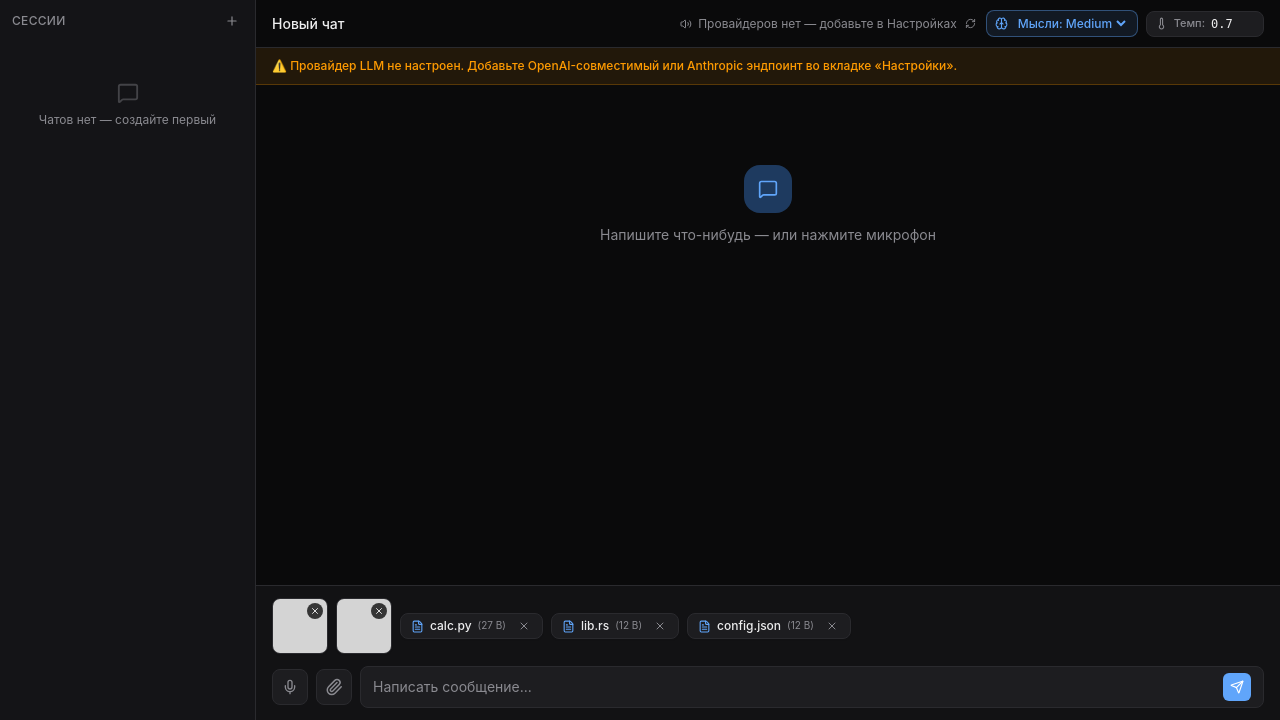
Test: File & Image Attachments Protocol Stress Tests › handles dropping multiple mixed files (images + code + text), renders previews, and removes specific items
Earlier steps of the test are not shown.
Check: the element with test id "attachments-preview" is shown, box [272,598,851,654]
Check: the text "calc.py" is shown, box [430,618,472,634]
Click the button named "Удалить diagram.png": click(315, 611) [307,603,323,619]
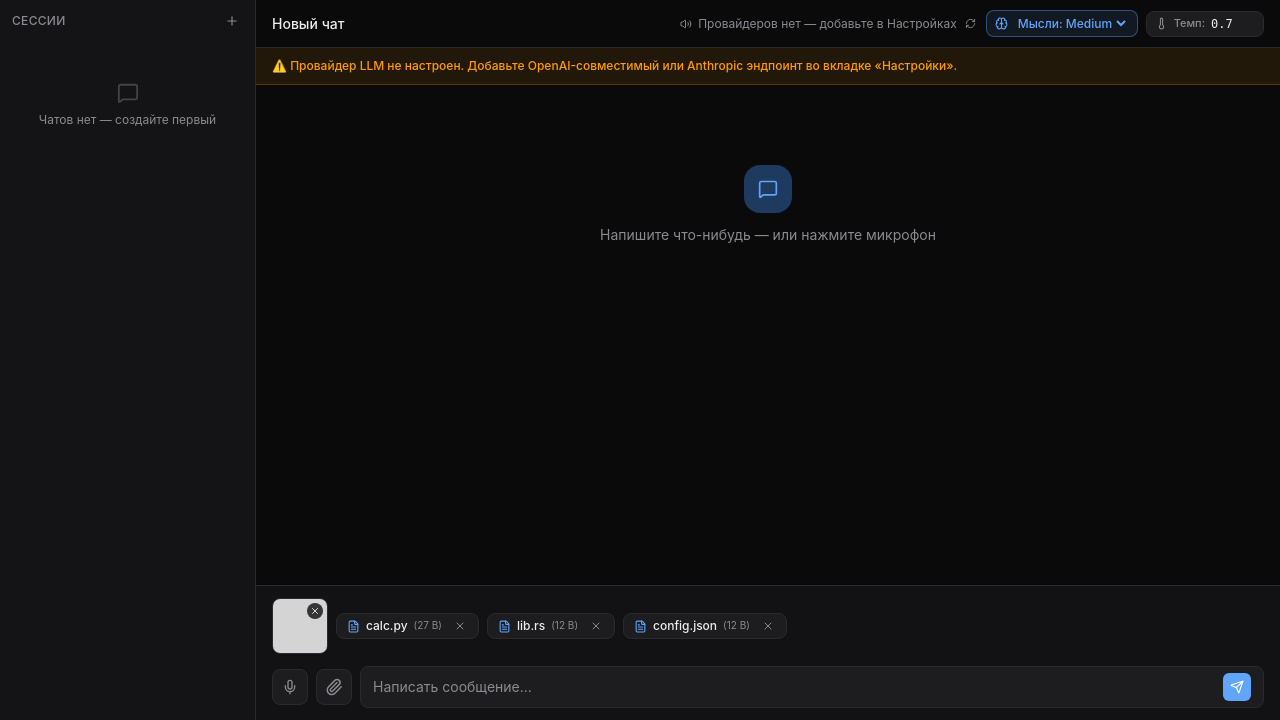
Check: the text "calc.py" is shown, box [366,618,408,634]
Click the button named "Удалить lib.rs": click(596, 626) [588,618,604,634]
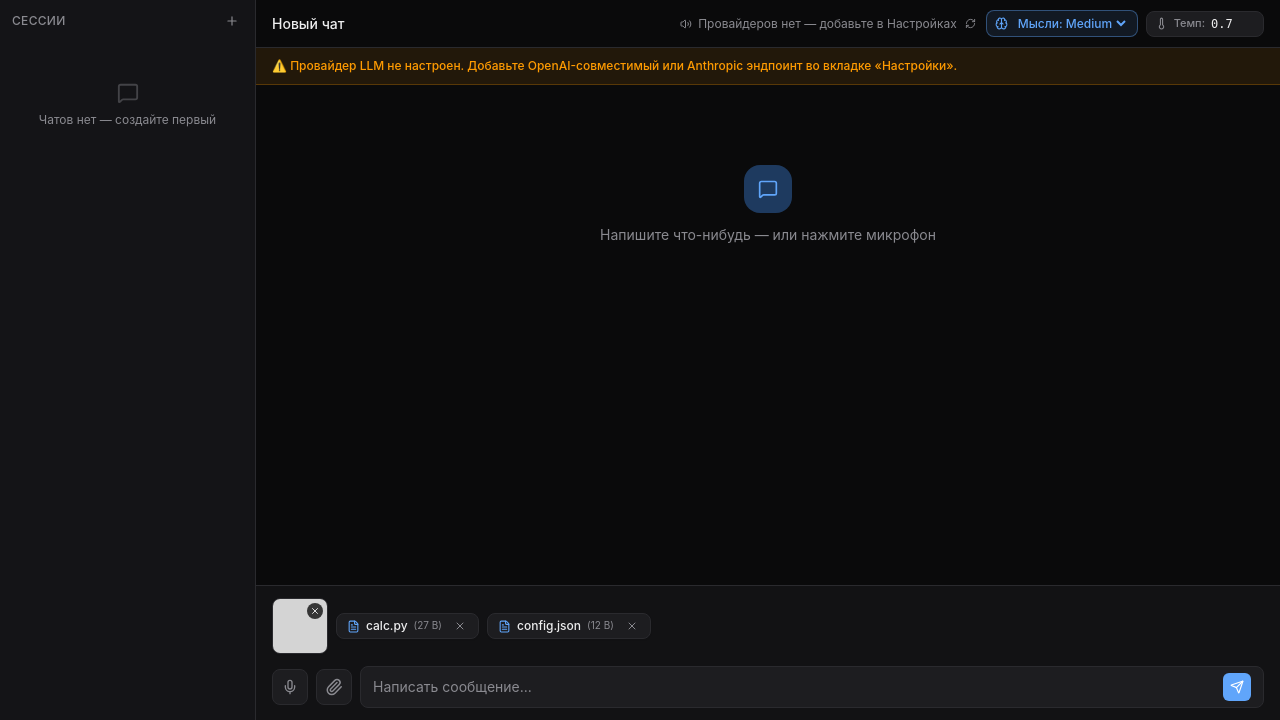
Check: the text "calc.py" is shown, box [366,618,408,634]
Check: the text "lib.rs" is gone
